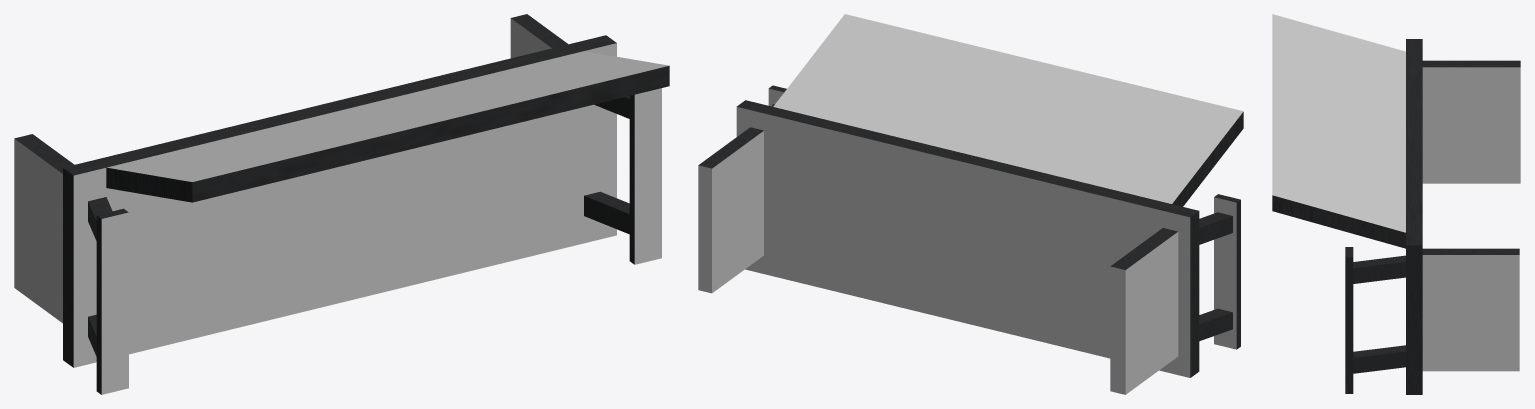
The model's file is Park_Bench_Keith.obj.
3 renders of one model, left to right at view 1: azimuth 30°, elevation 25°; view 2: azimuth 150°, elevation 25°; view 3: azimuth 270°, elevation 25°, orthographic. The views are drawn at different scales.
Visible parts, largest first — view 1: Cube_Cube.001; view 2: Cube_Cube.001; view 3: Cube_Cube.001.
Boxes of the visible parts, x1,y1,x2,y2 form: Cube_Cube.001: [14, 14, 669, 394]; Cube_Cube.001: [698, 14, 1243, 394]; Cube_Cube.001: [1272, 14, 1520, 394].
Size of the model in its own units: 279 by 115 by 138.
